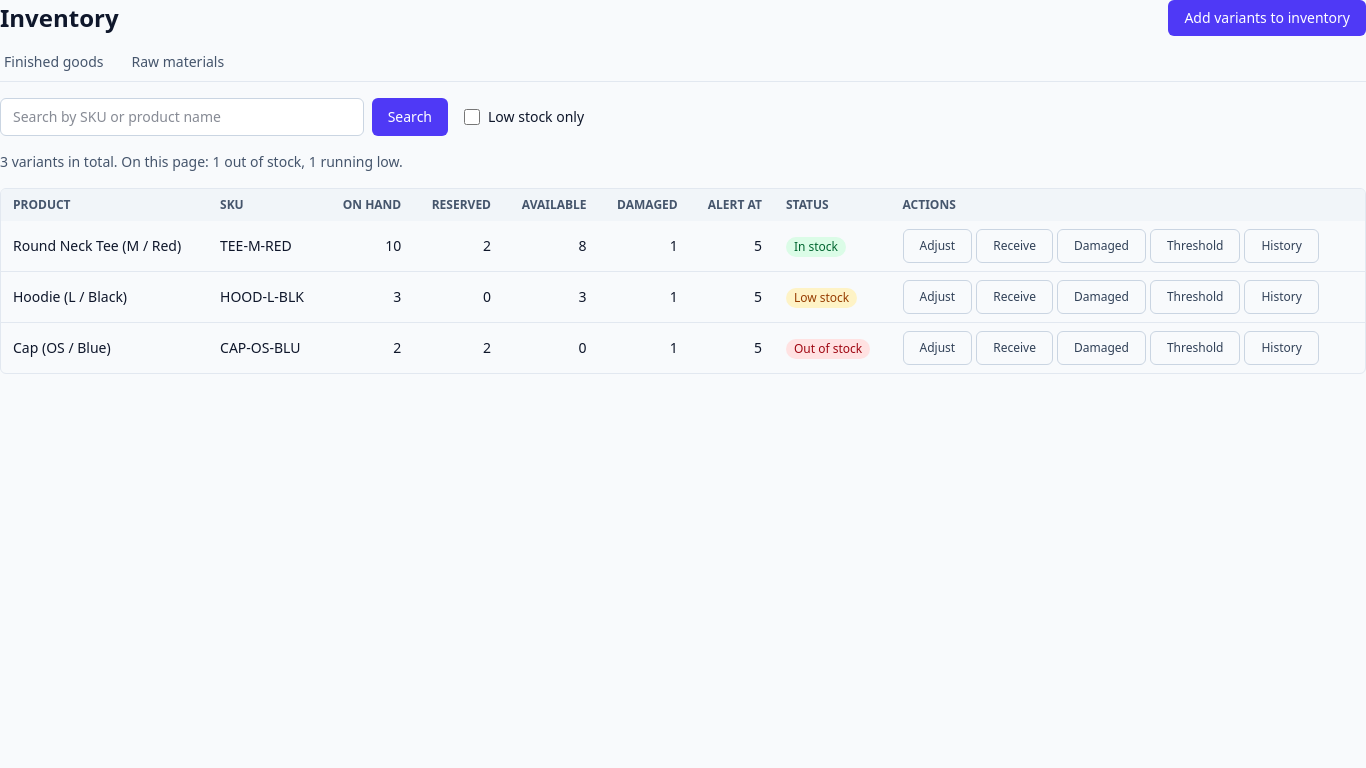
Test: StockDashboardPage › adjusts stock through the dialog and confirms it
Step 1. Click the button "Adjust" in the row of "Round Neck Tee (M / Red)" → (937, 246), box [903,229,972,263]
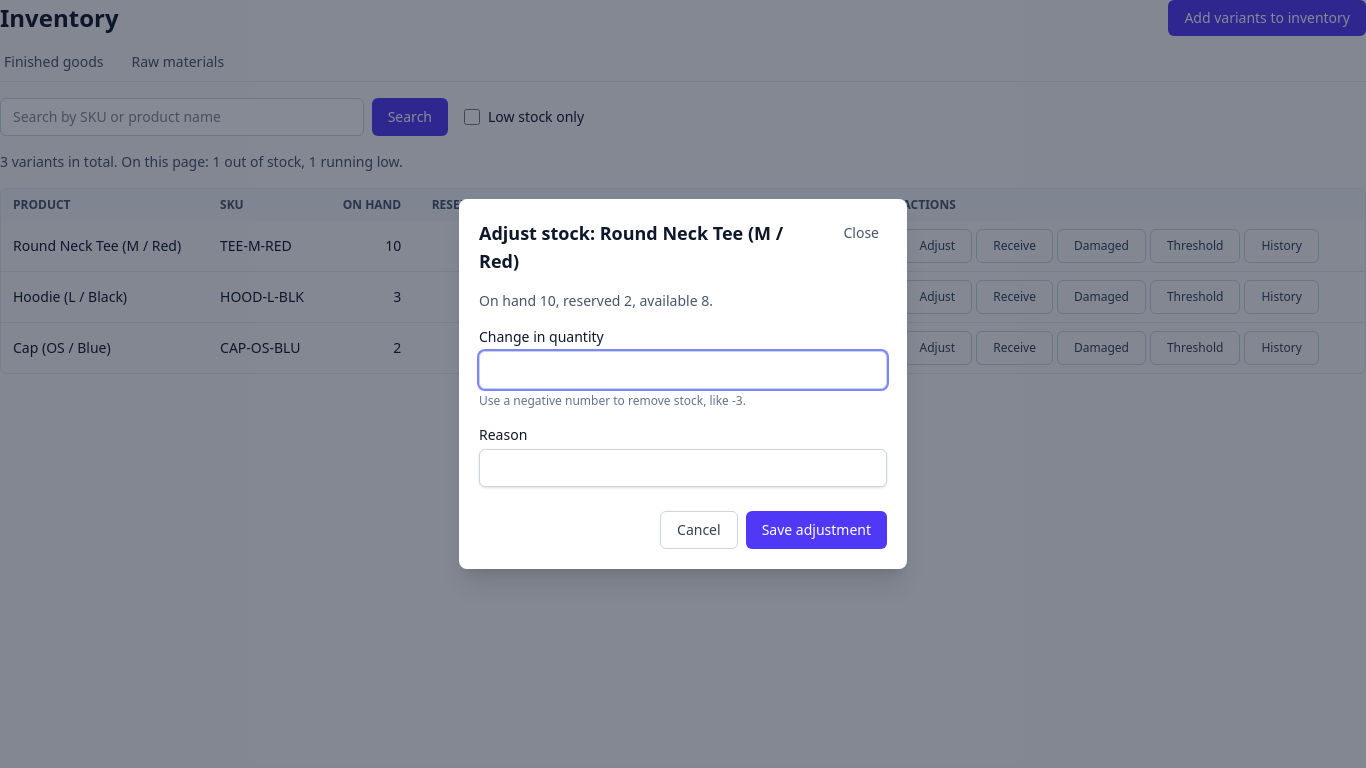
Step 2. Type "-3" into the field labelled "Change in quantity" → (683, 370), box [479,351,887,389]
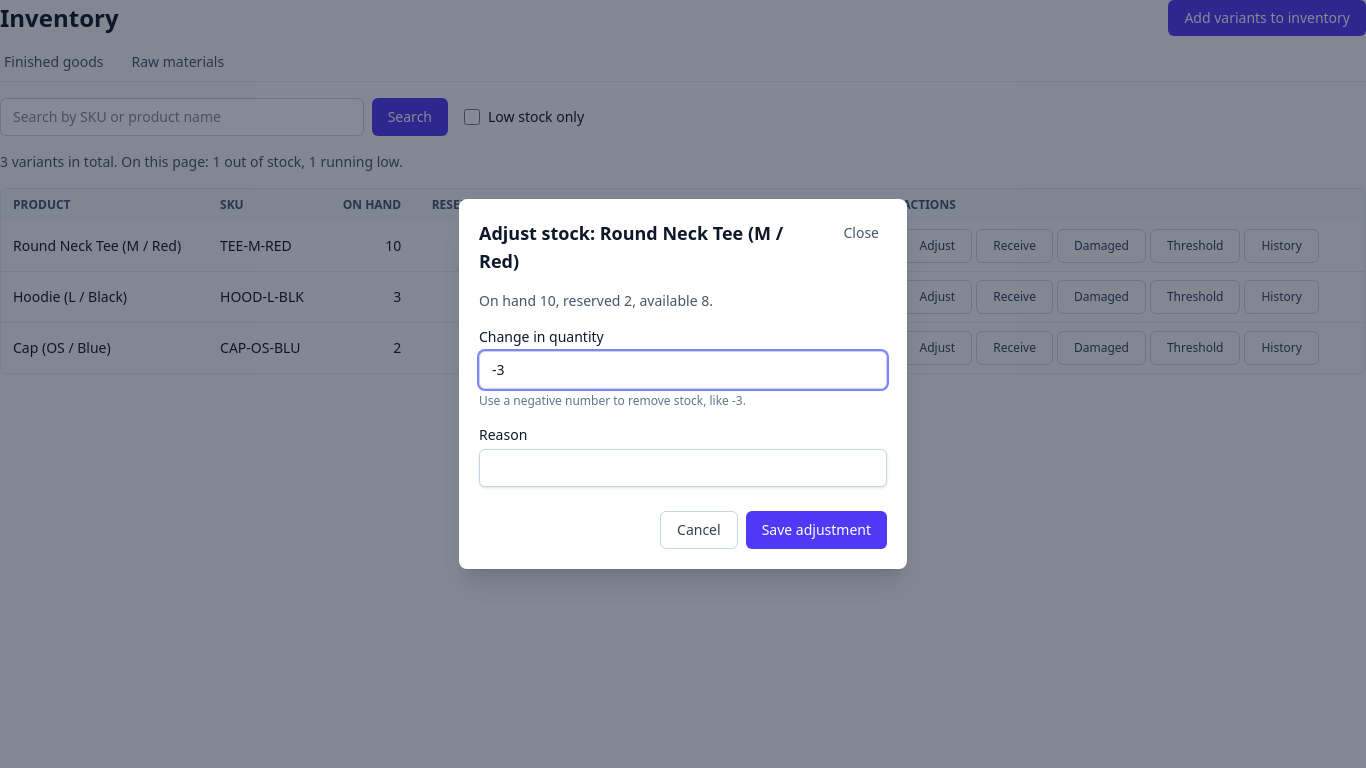
Step 3. Type "cycle count" into the field labelled "Reason" → (683, 468), box [479,449,887,487]
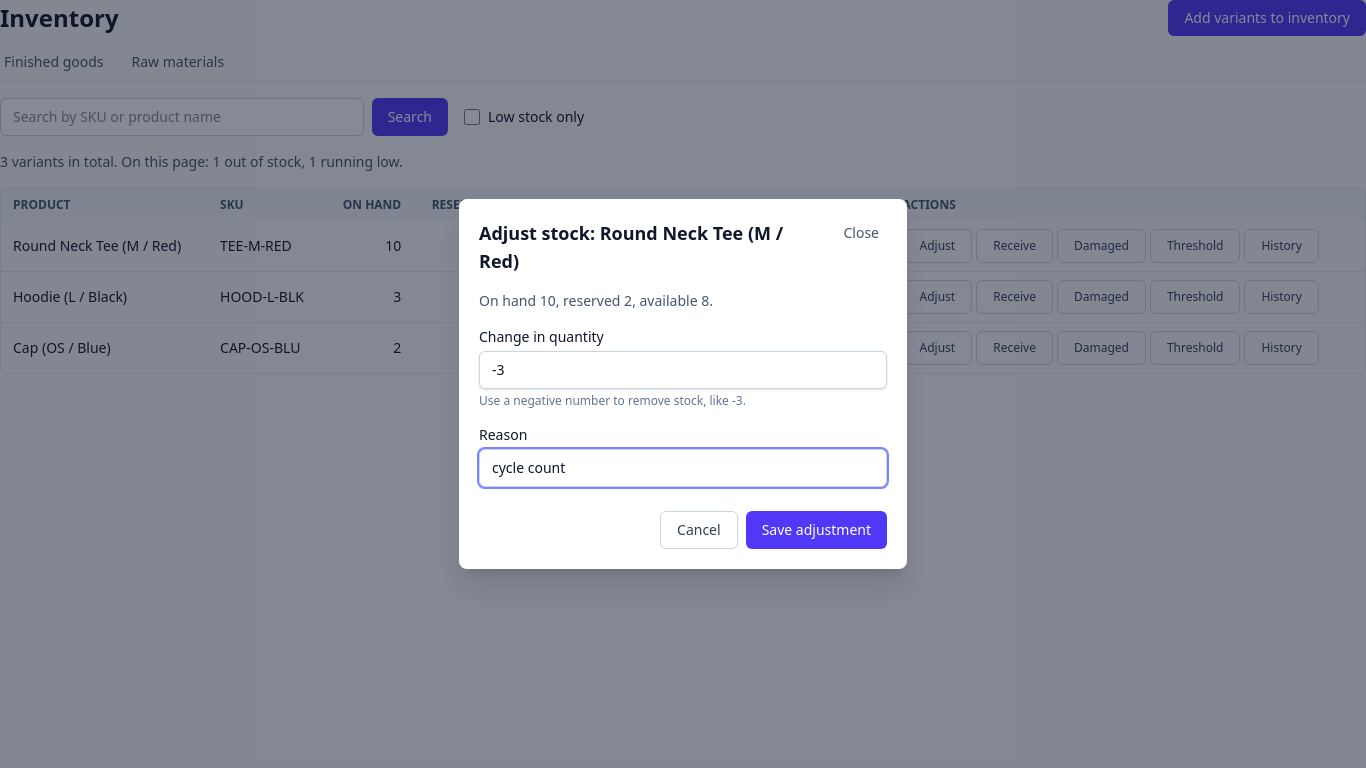
Step 4. Click the button "Save adjustment" → (816, 530), box [746,511,887,549]
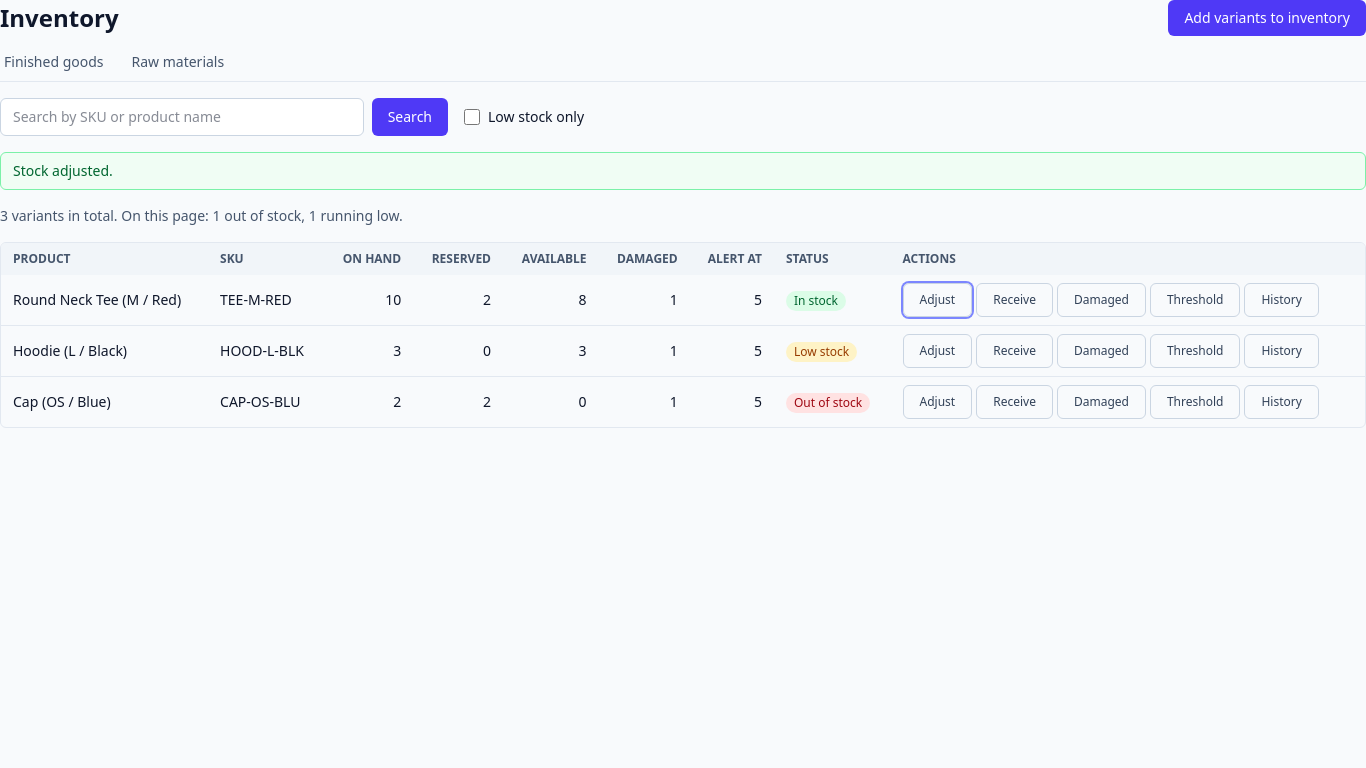
Result: the text "Stock adjusted." is shown at [0,152,1365,190]
Result: the dialog is gone
